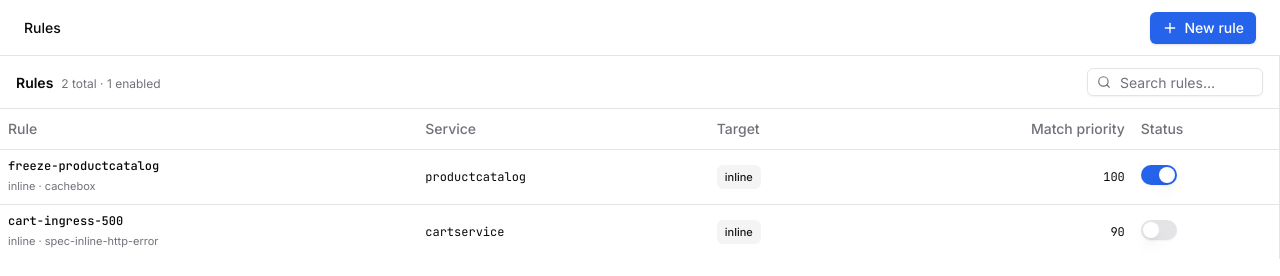
Test: RulesPage list › filters rules by search term
The width and height of the screenshot is (1280, 276).
Check: the text "freeze-productcatalog" is shown, box left=8, top=158, right=159, bottom=174
Type "cart" into the field with placeholder "Search rules…" at (1175, 82), box left=1087, top=68, right=1263, bottom=96
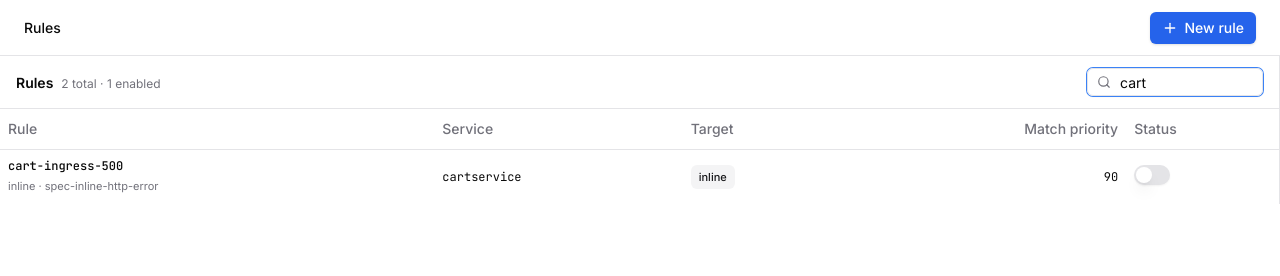
Check: the text "cart-ingress-500" is shown, box left=8, top=158, right=123, bottom=174
Check: the text "freeze-productcatalog" is gone
